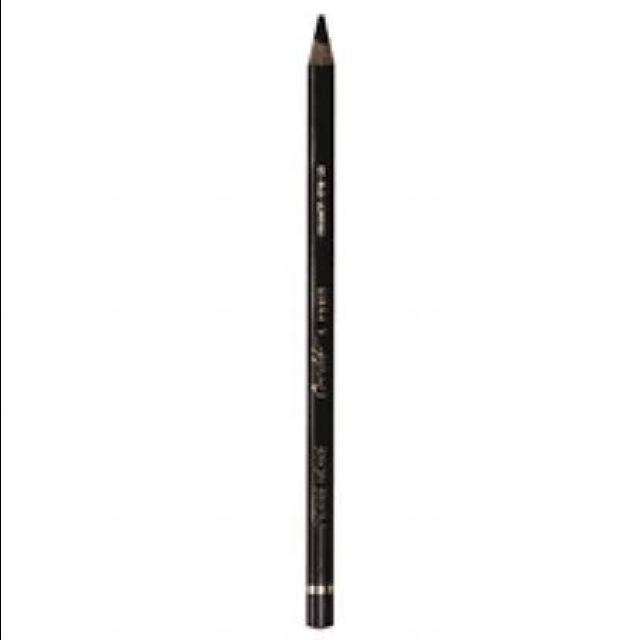pencil: (296, 0, 352, 89)
